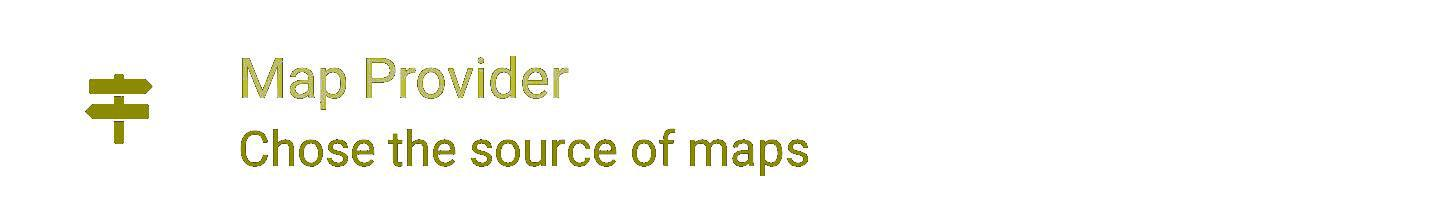CheckedTextView: (1, 1, 1429, 217)
